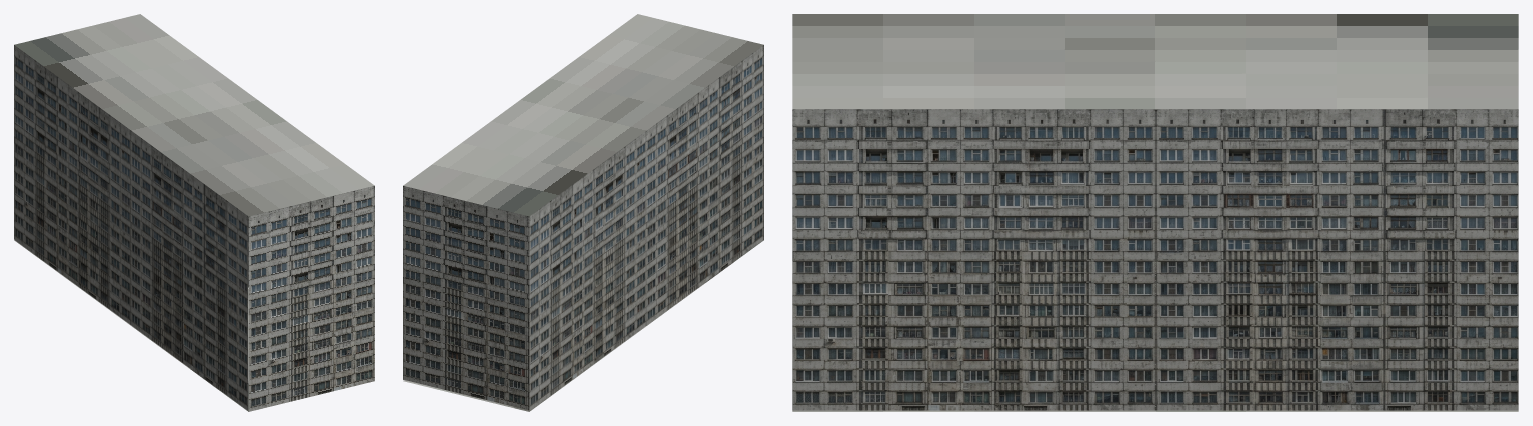
File: building_01.gltf
3 renders of one model, left to right at view 1: azimuth 30°, elevation 25°; view 2: azimuth 150°, elevation 25°; view 3: azimuth 270°, elevation 25°, orthographic. The views are drawn at different scales.
Visible parts, largest first — view 1: mesh; view 2: mesh; view 3: mesh.
Part boxes in pixels (x1,y1,x2,y2): mesh: [14, 14, 374, 411]; mesh: [403, 14, 763, 411]; mesh: [792, 14, 1518, 411].
Size of the model in its own units: 2.88 by 4.25 by 9.25.
Materials: 1 (1 with a texture image).
